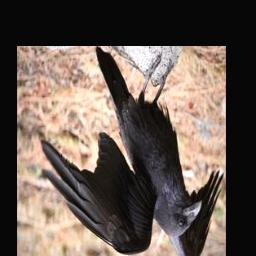Crow: (38, 50, 224, 256)
